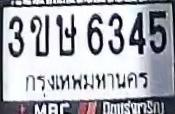3: (106, 12, 124, 54), (6, 15, 24, 57)
4: (128, 12, 145, 54)
5: (148, 10, 166, 53)
6: (86, 13, 102, 55)
A02: (29, 14, 49, 56)
A39: (55, 13, 76, 55)
BKK: (21, 68, 152, 98)
